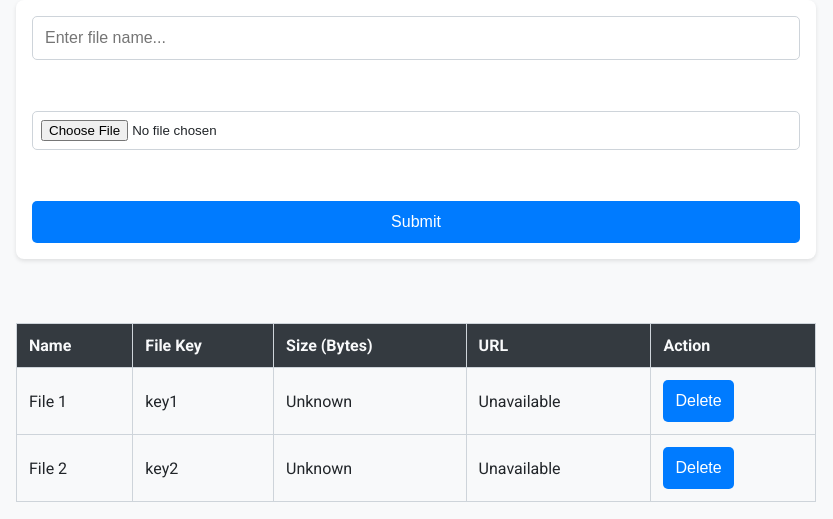
Scenario: FileUpload › should delete file successfully
The image size is (833, 519).
expect the text "File 1" is shown: met, box top-left (16, 368), bottom-right (133, 434)
Step 1. Click the button "Delete" in the row of "File 1" → (699, 401), box top-left (663, 380), bottom-right (734, 422)
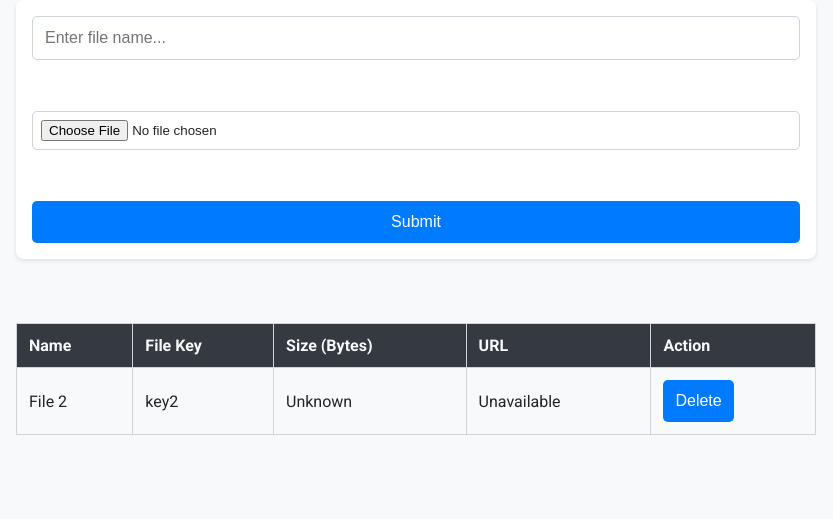
expect the text "File 1" is gone: met
